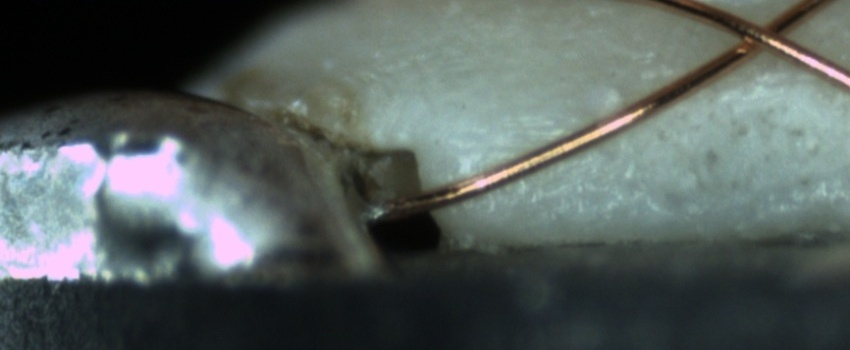CL: (714, 4, 815, 66)
DL: (733, 56, 825, 107)
